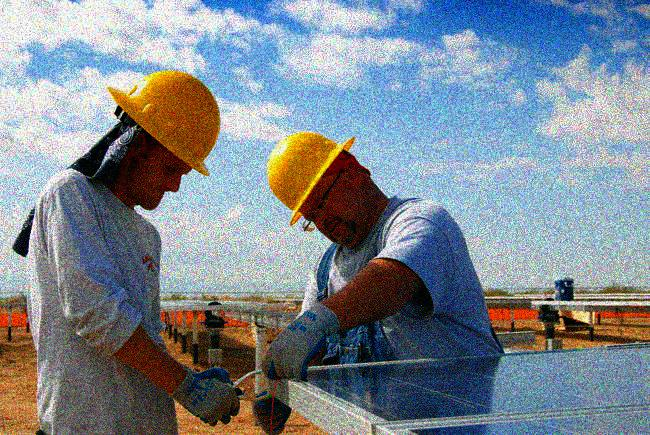helmet: (101, 66, 225, 212), (263, 126, 374, 253)
